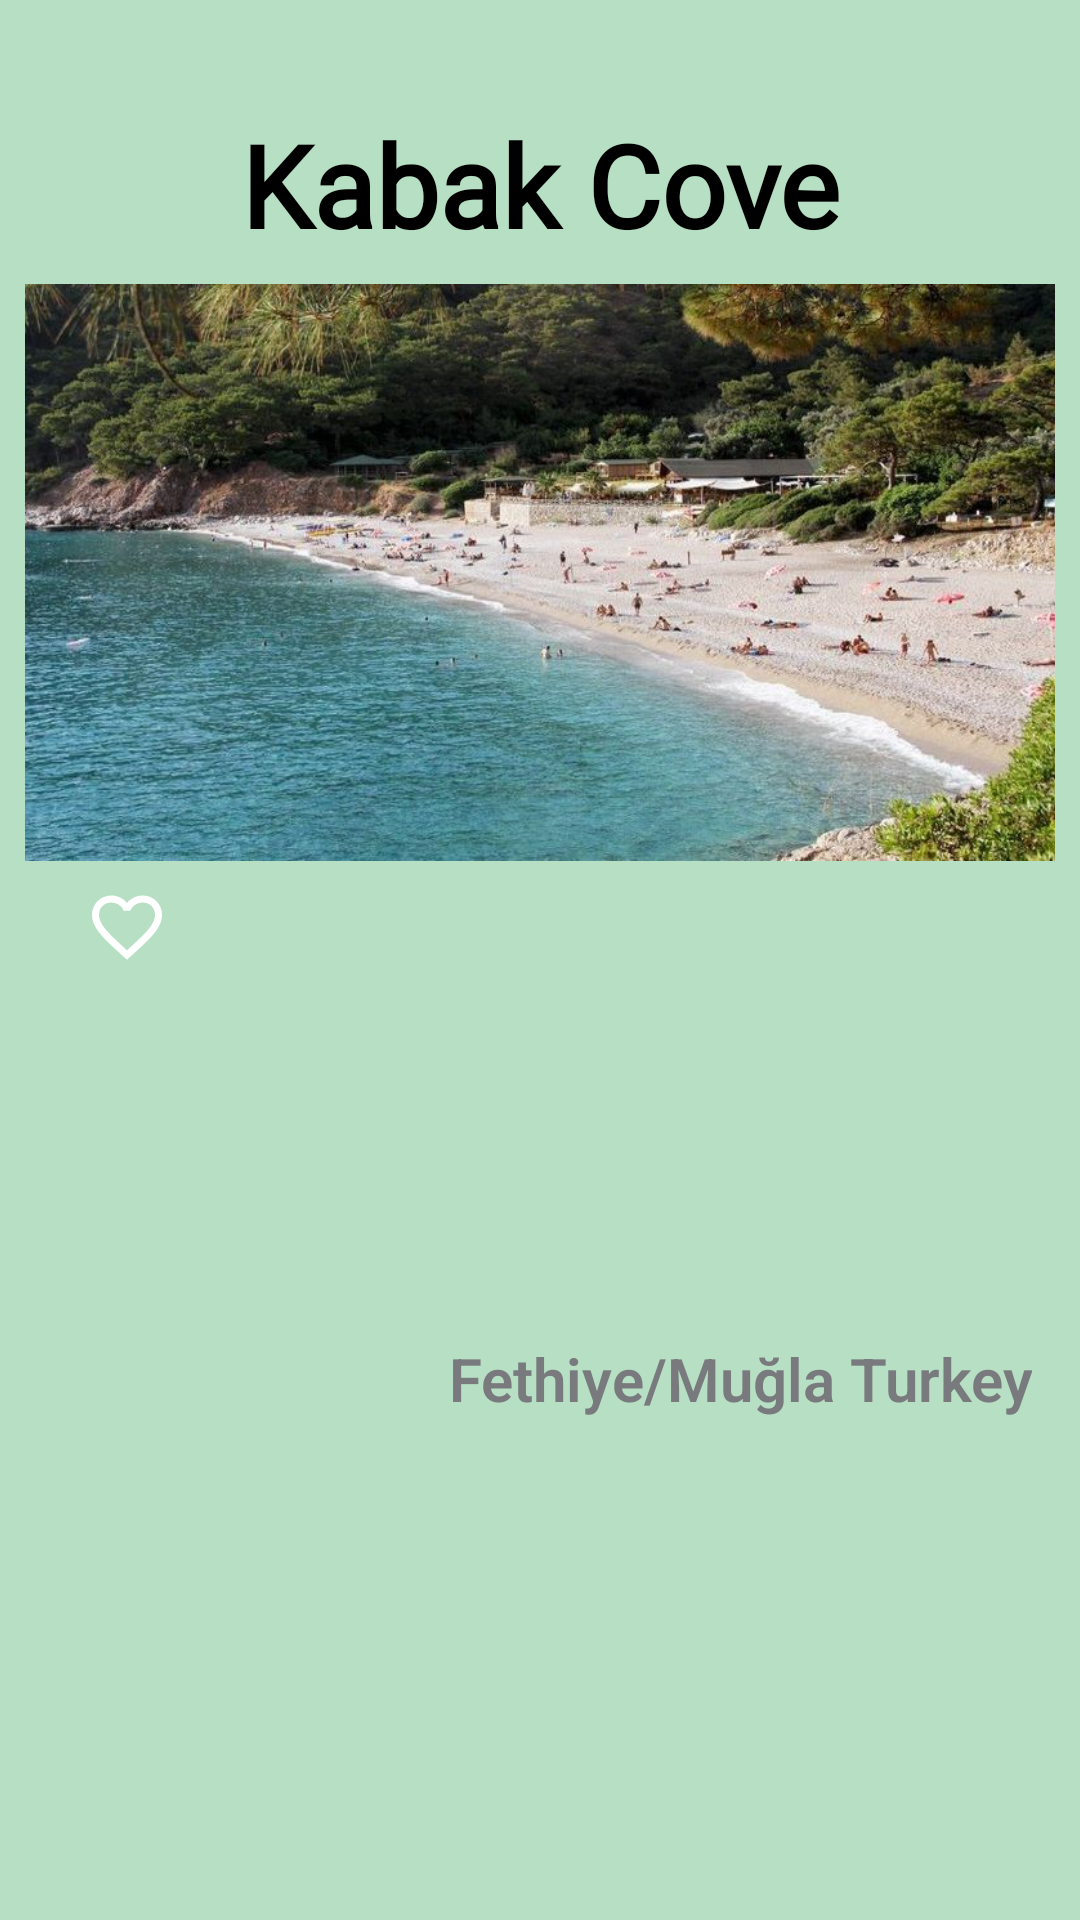

Screen size 1080 × 1920. Icon name, then its center in pixels as [x,y]:
favorite false: [127,927]
